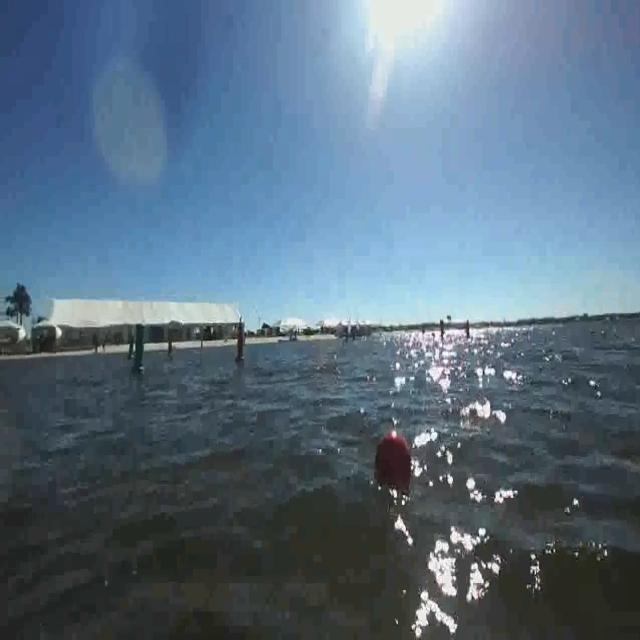green-column-buoy: (131, 322, 149, 373)
red-buoy: (375, 428, 413, 494)
red-column-buoy: (234, 326, 248, 364)
